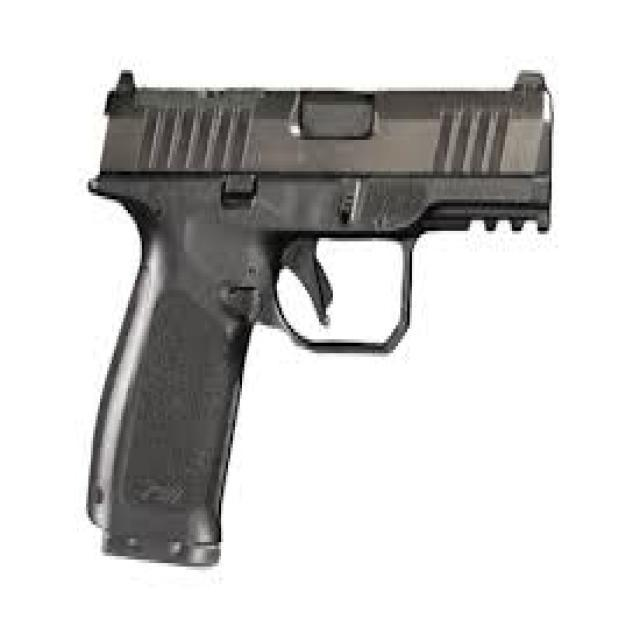weapon: (0, 56, 610, 581)
